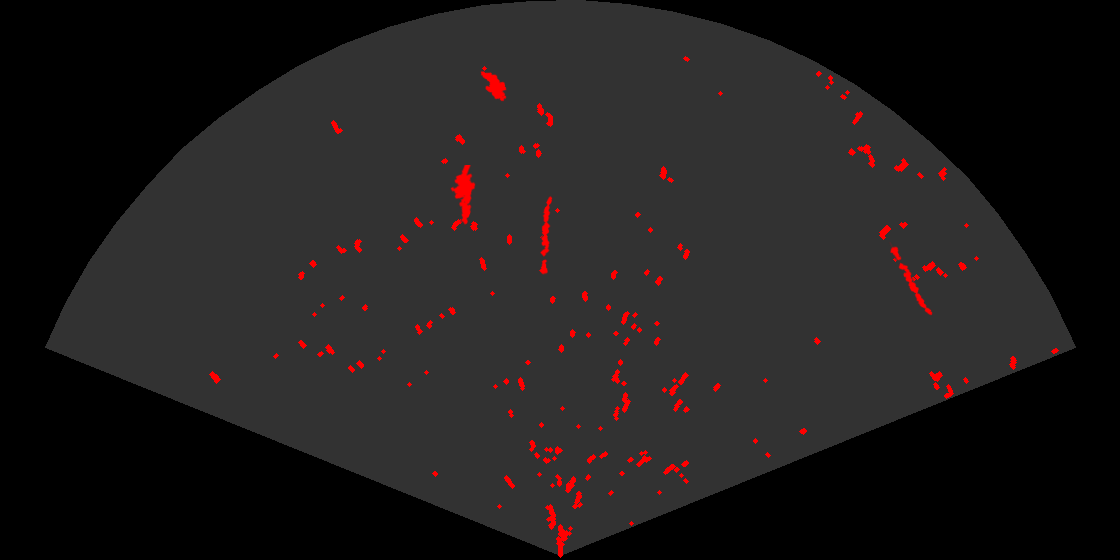AUV: (479, 69, 508, 103)
chain: (888, 242, 934, 317), (537, 195, 554, 275)
frogman: (449, 165, 477, 226)
